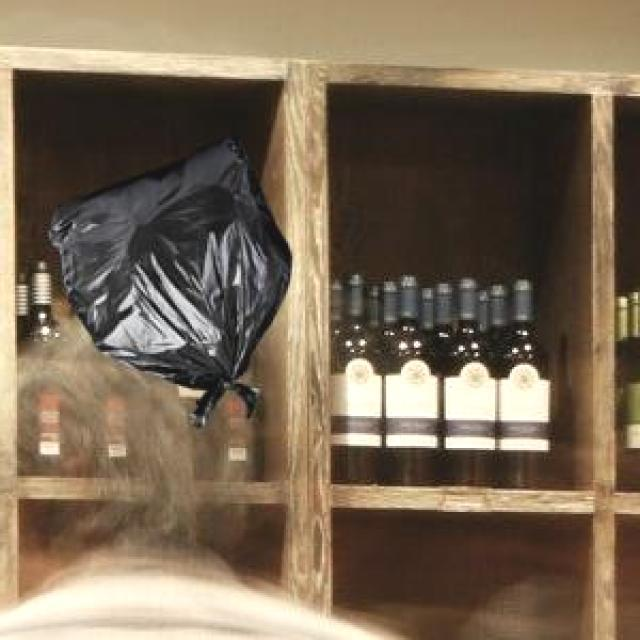Trashbag: (41, 136, 301, 425)
